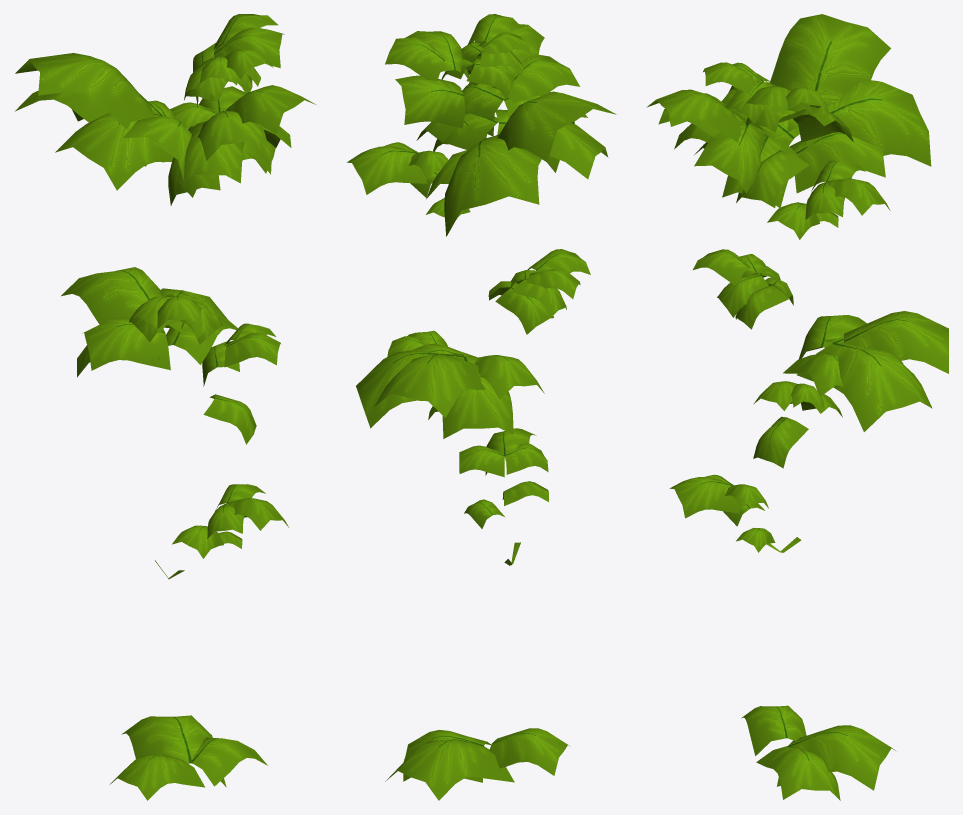
File: BambooSet_part_19.fbx
3 renders of one model, left to right at view 1: azimuth 30°, elevation 25°; view 2: azimuth 150°, elevation 25°; view 3: azimuth 270°, elevation 25°, orthographic. The views are drawn at different scales.
Visible parts, largest first — view 1: Object_40.001; view 2: Object_40.001; view 3: Object_40.001.
Boxes of the visible parts, x1,y1,x2,y2 form: Object_40.001: (15, 14, 316, 800); Object_40.001: (347, 14, 616, 800); Object_40.001: (646, 14, 948, 800).
Bounding box in the file's own units: 1171 × 3405 × 1298.
